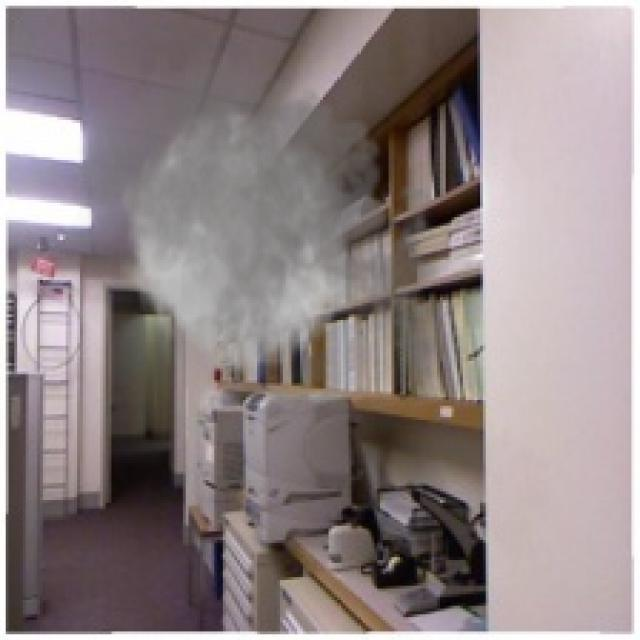Smoke: (66, 34, 457, 446)
